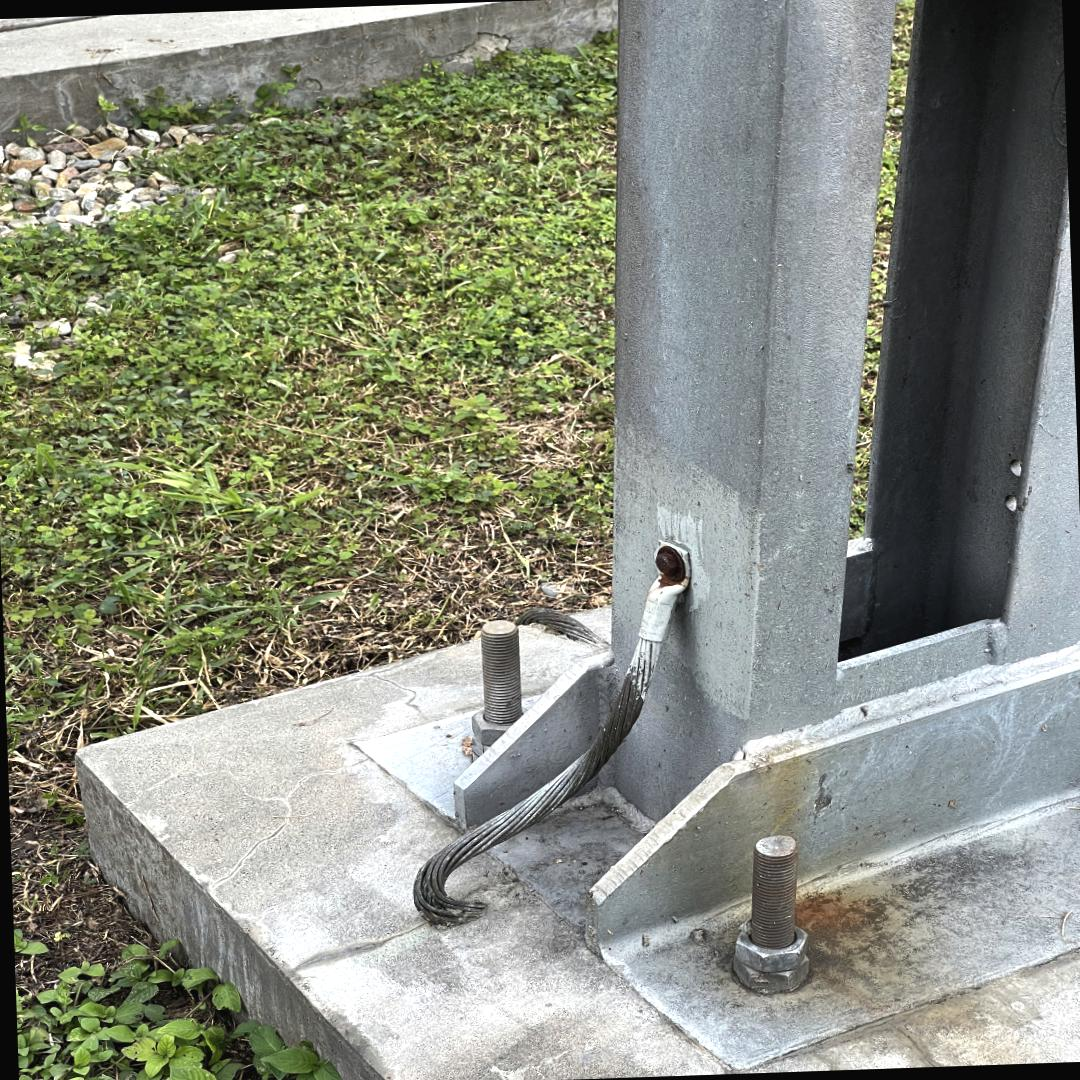Metal: (357, 0, 1080, 1074)
Metal corroido: (795, 885, 884, 937), (654, 544, 687, 590)
